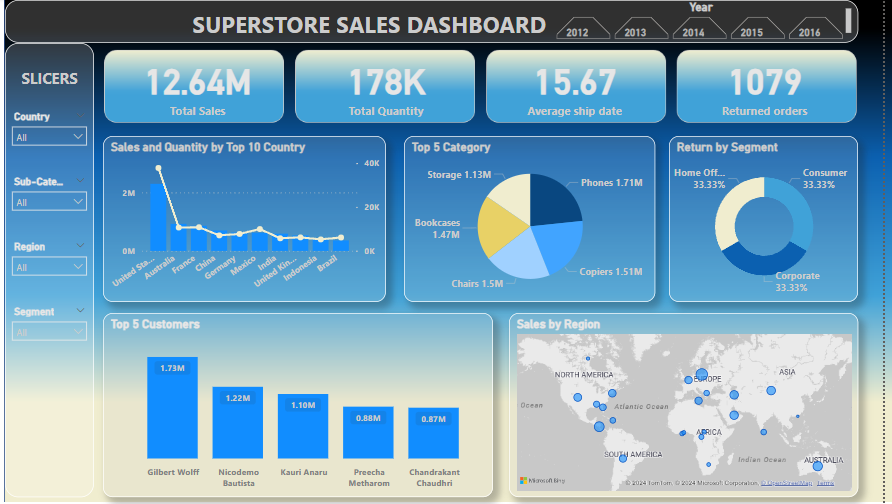

What the dashboard file says about the page in this screenshot:
{"tool":"powerbi","page":{"name":"Page 1","canvas":[1280,720],"ordinal":0},"visuals":[{"type":"card","title":"Total Sales","fields":{"Values":["Orders.Sales"]},"box":[187.1,72.9,227.1,98.6],"z":0},{"type":"card","fields":{"Values":["Calendar.Day"]},"box":[745.7,72.9,187.1,98.6],"z":1000},{"type":"card","fields":{"Values":["Orders.Quantity"]},"box":[460,72.9,220,98.6],"z":2000},{"type":"card","fields":{"Values":["Returns.Returned"]},"box":[1001.9,72.9,218.6,98.6],"z":3000},{"type":"pieChart","title":"Top 5 Category","fields":{"Category":["Orders.Sub-Category"],"Y":["Orders.Sales"]},"box":[595.7,194.3,358.6,237.1],"z":4000},{"type":"lineClusteredColumnComboChart","title":" Sales and Quantity by Top 10 Country","fields":{"Category":["Orders.Country"],"Y":["Orders.Sales"],"Y2":["Orders.Quantity"]},"box":[165.7,194.3,404.3,237.1],"z":5000},{"type":"donutChart","title":"Return by Segment","fields":{"Category":["Orders.Segment"],"Y":["Returns.Returned"]},"box":[974.3,194.3,270,237.1],"z":6000},{"type":"clusteredColumnChart","title":"Top 5 Customers","fields":{"Category":["People.Person"],"Y":["Orders.Sales"]},"box":[165.7,447.1,557.1,262.9],"z":7000},{"type":"map","title":" Sales by Region","fields":{"Category":["Orders.Region"],"Size":["Orders.Sales"]},"box":[745.7,447.1,498.6,262.9],"z":8000},{"type":"textbox","box":[25.7,0,1218.6,61.4],"z":9000},{"type":"textbox","box":[25.7,61.4,127.1,648.6],"z":10000},{"type":"shape","box":[25.7,68.1,127.1,84.3],"z":11000},{"type":"slicer","fields":{"Values":["Orders.Country"]},"box":[25.7,152.4,127.1,92.9],"z":11001},{"type":"slicer","fields":{"Values":["Orders.Region"]},"box":[25.7,338.1,127.1,92.9],"z":11002},{"type":"slicer","fields":{"Values":["Orders.Sub-Category"]},"box":[25.7,245.3,127.1,92.9],"z":11003},{"type":"advancedSlicerVisual","fields":{"Values":["Calendar.Year"]},"box":[808.6,0,422.9,61.4],"z":11004},{"type":"slicer","fields":{"Values":["Orders.Segment"]},"box":[25.7,431,127.1,92.9],"z":11005}]}

Visuals, with their boxes in screenshot pixels (x1, y1, x2, y2), scaled from the page's 1280x720 canvas onto the 892x504 screenshot:
"Total Sales" card: <region>130, 51, 289, 120</region>
card - Calendar.Day: <region>520, 51, 650, 120</region>
card - Orders.Quantity: <region>321, 51, 474, 120</region>
card - Returns.Returned: <region>698, 51, 851, 120</region>
"Top 5 Category" pieChart: <region>415, 136, 665, 302</region>
" Sales and Quantity by Top 10 Country" lineClusteredColumnComboChart: <region>115, 136, 397, 302</region>
"Return by Segment" donutChart: <region>679, 136, 867, 302</region>
"Top 5 Customers" clusteredColumnChart: <region>115, 313, 504, 497</region>
" Sales by Region" map: <region>520, 313, 867, 497</region>
textbox: <region>18, 0, 867, 43</region>
textbox: <region>18, 43, 106, 497</region>
shape: <region>18, 48, 106, 107</region>
slicer - Orders.Country: <region>18, 107, 106, 172</region>
slicer - Orders.Region: <region>18, 237, 106, 302</region>
slicer - Orders.Sub-Category: <region>18, 172, 106, 237</region>
advancedSlicerVisual - Calendar.Year: <region>563, 0, 858, 43</region>
slicer - Orders.Segment: <region>18, 302, 106, 367</region>
